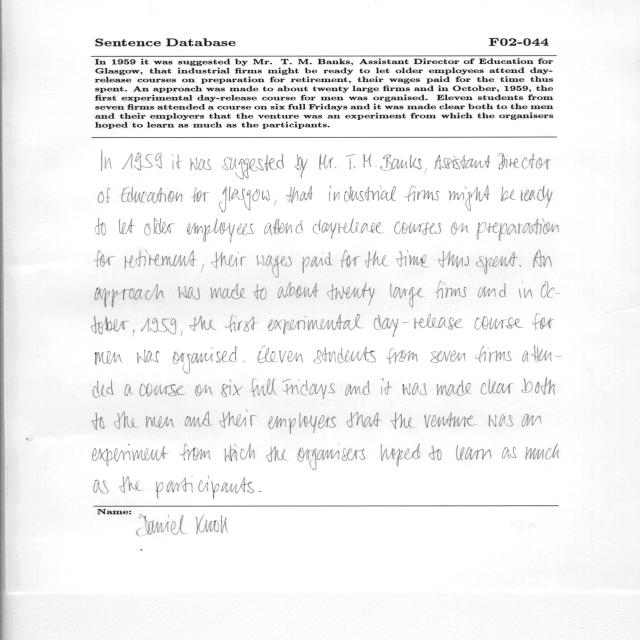word: (156, 476, 254, 499), (374, 314, 464, 337), (267, 314, 364, 334), (477, 218, 559, 241), (173, 346, 238, 374), (298, 444, 366, 470), (187, 218, 254, 243), (93, 444, 169, 466), (223, 154, 285, 180), (95, 284, 164, 307), (313, 218, 385, 239), (268, 413, 336, 434), (124, 250, 197, 269), (219, 186, 270, 213), (327, 282, 375, 305), (449, 186, 491, 212), (329, 186, 396, 202), (314, 347, 376, 364), (283, 379, 335, 399), (121, 187, 182, 204), (476, 252, 518, 275), (434, 154, 491, 170), (498, 153, 551, 170), (381, 444, 420, 466), (424, 412, 477, 428), (390, 284, 425, 308), (256, 255, 292, 278), (257, 345, 303, 363), (91, 316, 130, 335), (122, 153, 162, 171), (380, 154, 422, 171), (521, 186, 553, 208), (475, 316, 524, 330), (219, 410, 257, 428), (522, 346, 562, 363), (302, 252, 334, 273), (394, 221, 441, 235), (278, 282, 319, 298), (521, 377, 555, 396), (264, 219, 303, 235), (139, 384, 187, 397), (211, 252, 247, 269), (476, 346, 512, 363), (456, 444, 491, 461), (210, 283, 247, 299), (396, 250, 429, 267), (225, 315, 258, 332), (405, 186, 440, 202), (141, 318, 176, 334), (437, 380, 472, 396), (145, 218, 176, 236), (435, 282, 467, 299), (480, 379, 514, 395), (525, 444, 559, 460), (225, 444, 255, 462), (438, 251, 469, 268), (180, 444, 211, 461), (347, 412, 382, 427), (250, 378, 277, 397), (387, 348, 418, 364), (286, 186, 314, 203), (114, 411, 140, 429), (431, 350, 466, 363), (189, 316, 217, 332), (185, 411, 213, 427), (478, 283, 507, 298), (390, 412, 415, 429), (119, 476, 144, 493), (365, 251, 389, 268), (345, 380, 370, 396), (93, 380, 115, 398), (221, 379, 243, 397), (95, 250, 116, 268), (96, 351, 123, 365), (532, 313, 554, 330), (340, 250, 361, 267), (266, 446, 288, 462), (533, 250, 552, 268), (146, 416, 174, 428), (541, 281, 560, 298), (191, 187, 211, 203), (295, 154, 308, 178), (489, 414, 513, 427), (137, 350, 159, 364), (402, 383, 427, 395), (178, 286, 200, 299), (522, 413, 542, 427), (190, 158, 211, 171), (319, 154, 336, 170), (119, 219, 136, 234), (451, 222, 469, 235), (501, 187, 516, 202), (94, 479, 109, 494), (519, 282, 532, 299), (195, 384, 213, 396), (254, 284, 267, 300), (381, 378, 393, 395), (92, 413, 104, 430), (102, 151, 112, 171), (363, 154, 377, 168), (429, 446, 442, 461), (99, 188, 111, 203), (172, 154, 183, 170), (96, 218, 106, 235), (502, 447, 516, 459), (346, 154, 356, 170), (124, 384, 134, 396), (201, 264, 204, 273), (274, 199, 277, 206), (133, 330, 135, 337), (425, 168, 427, 174), (181, 330, 183, 336), (519, 265, 521, 267), (243, 361, 245, 363), (258, 491, 262, 492)
